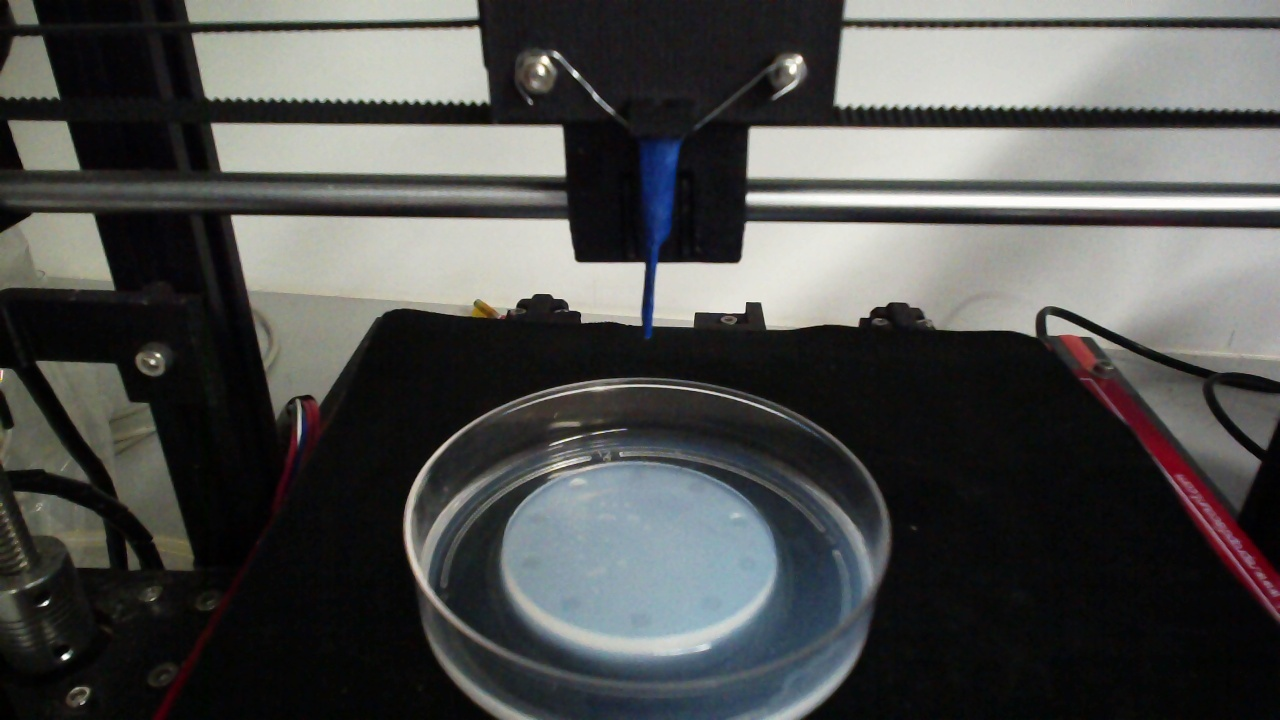groove: (697, 593, 724, 612), (628, 611, 654, 629), (521, 552, 545, 571), (736, 553, 759, 572), (524, 508, 549, 525), (727, 513, 751, 529), (558, 595, 580, 612), (625, 468, 647, 484), (686, 481, 707, 496), (569, 477, 590, 490)
needle: (639, 138, 680, 339)
